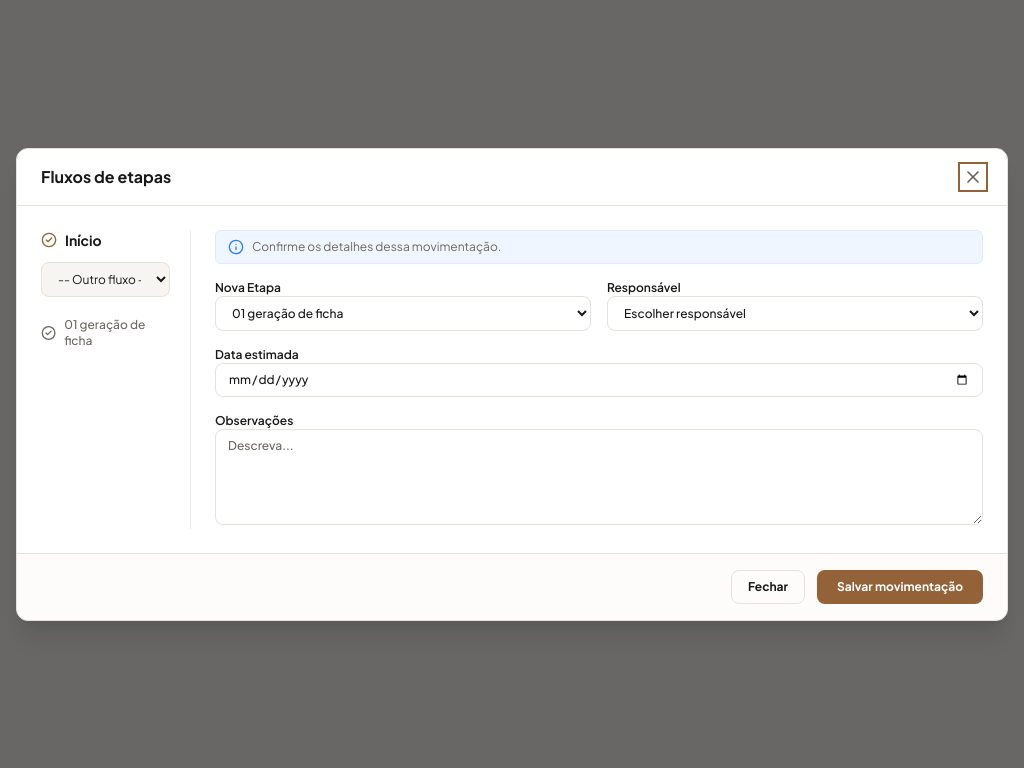
Test: Fluxo de entrega e edição de insumo › backend indisponível não confirma entrega
Select "02 engenharia recebimento" in the dropdown labelled "Nova Etapa" at (403,313), box [215,296,591,330]
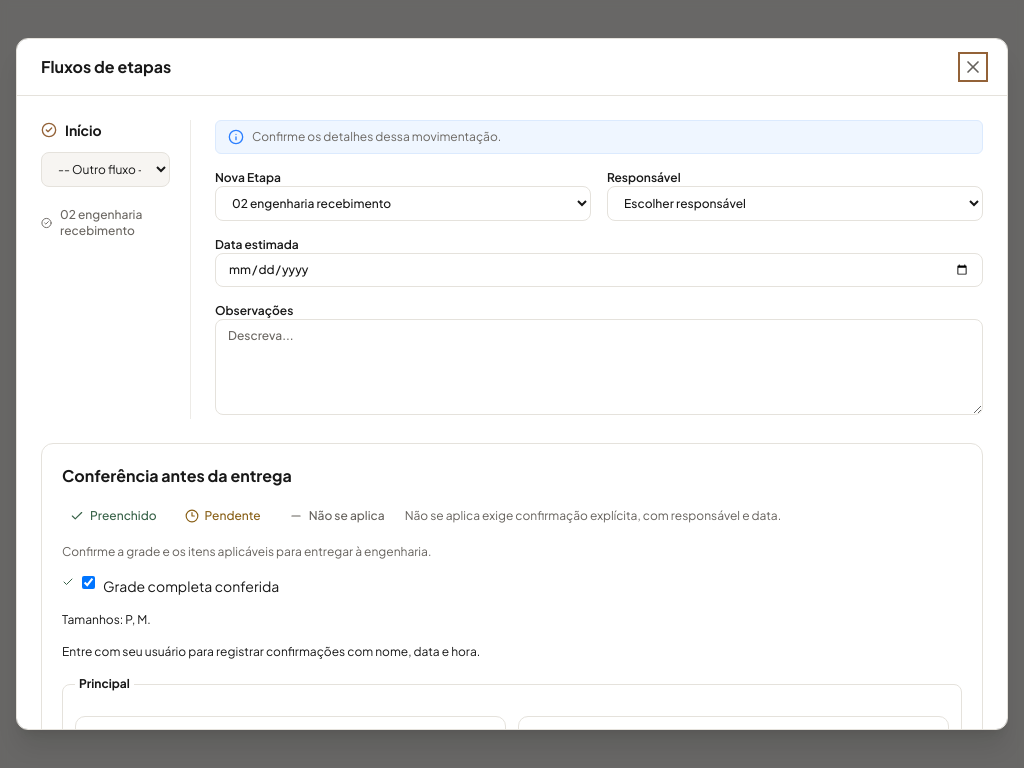
Select "Usuário de teste" in the dropdown labelled "Responsável" at (795,204), box [607,186,983,221]
(page scrolled)
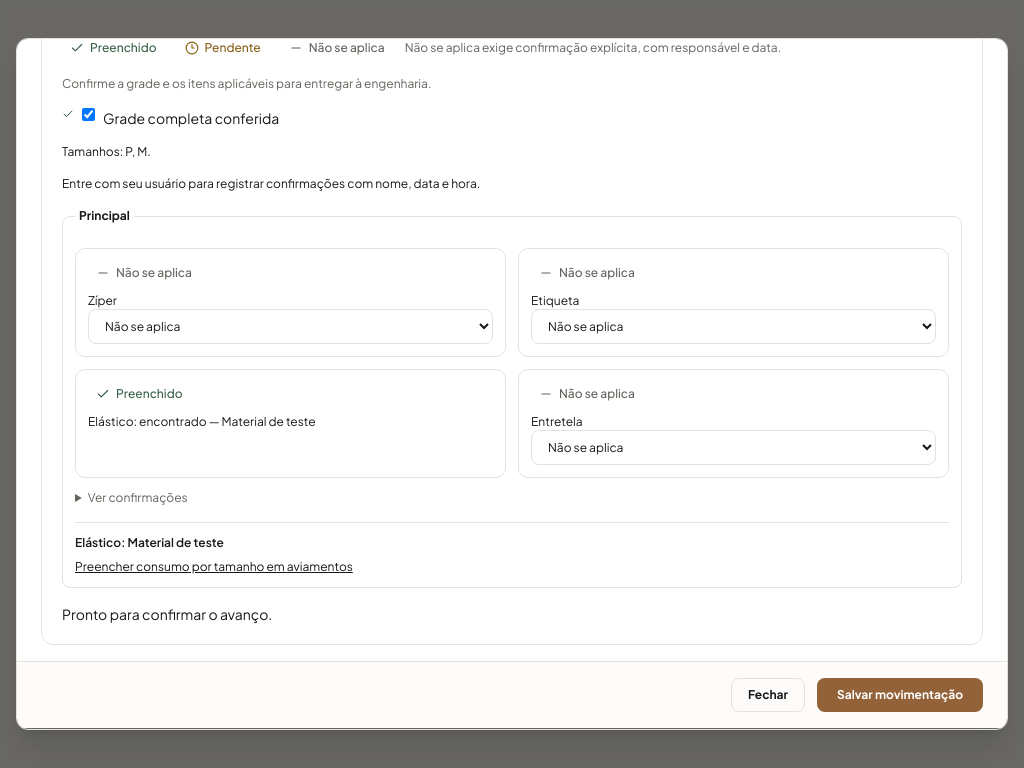
Click the button "Salvar movimentação" at (900,695), box [817,678,983,712]
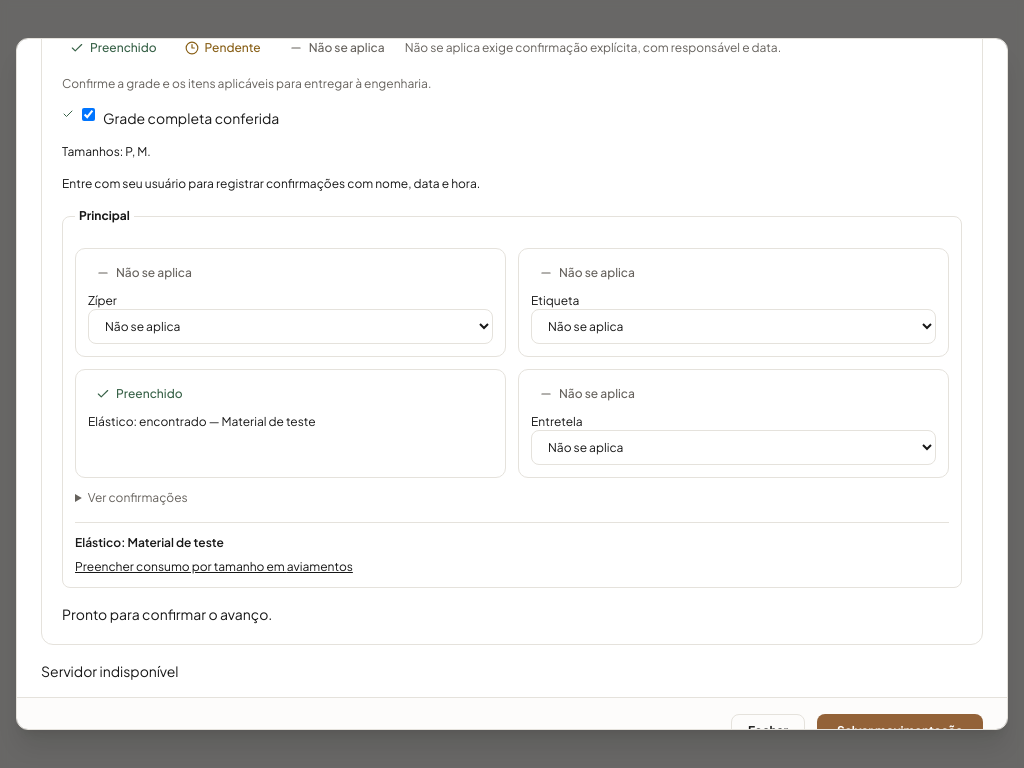
Expected: the message "Servidor indisponível" is shown, [41,662,179,680]
